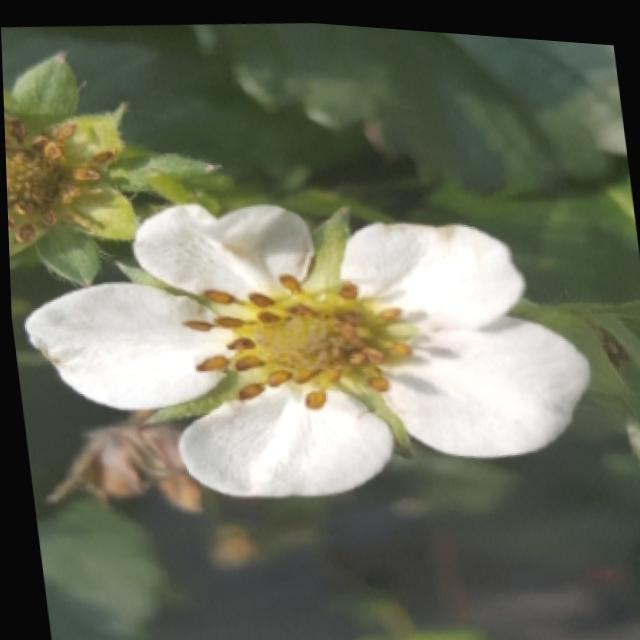Blossom Blight: (173, 262, 418, 406), (3, 104, 120, 250)
